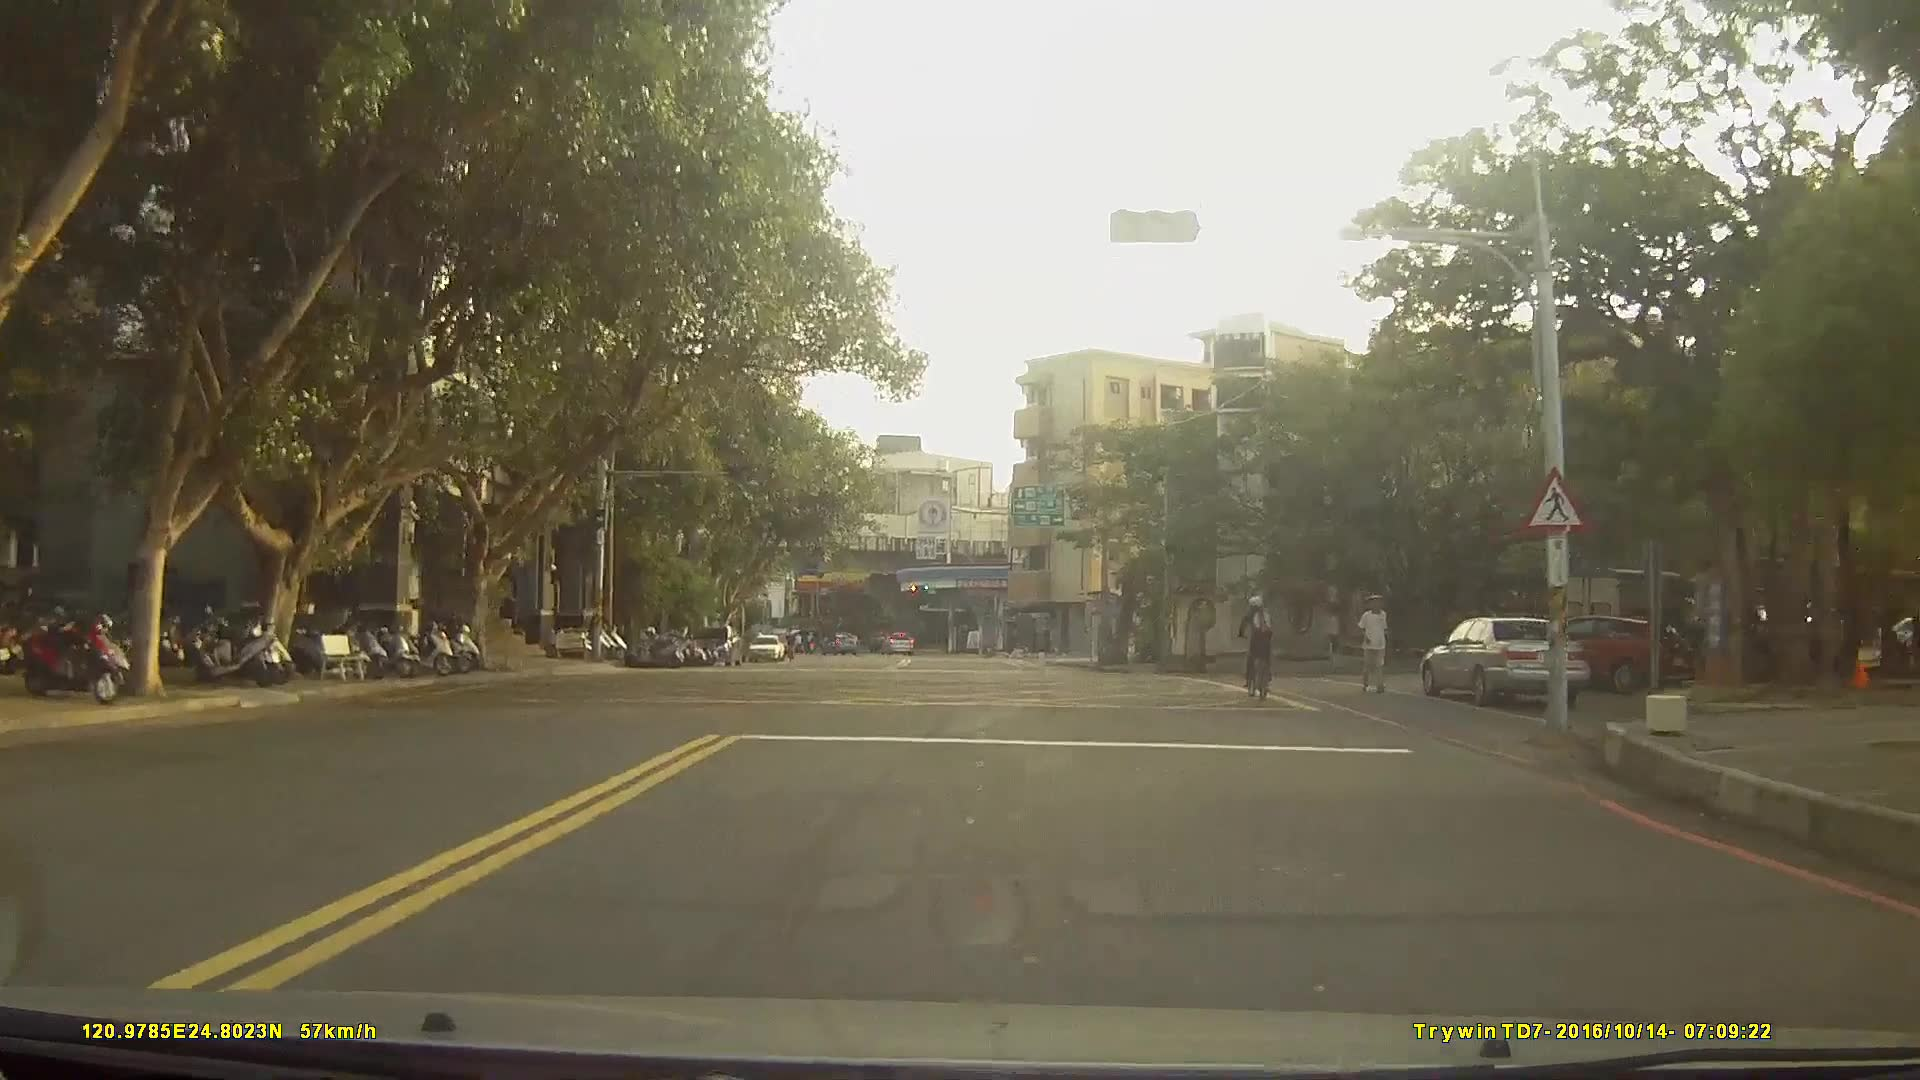pedestrian: (1357, 591, 1398, 701), (497, 595, 517, 647)
rider: (1238, 597, 1283, 702)
vehicle: (1420, 616, 1591, 709), (1523, 613, 1665, 692), (687, 624, 741, 669), (748, 631, 784, 663), (881, 628, 914, 653)
